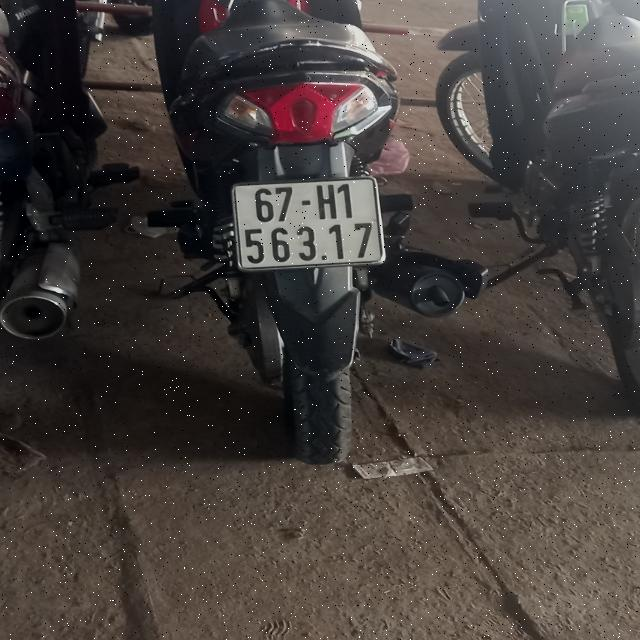1: (337, 182, 355, 220), (328, 224, 345, 261)
3: (296, 226, 316, 260)
5: (244, 228, 266, 264)
6: (270, 227, 291, 261), (255, 189, 274, 222)
7: (354, 222, 372, 259), (276, 187, 293, 222)
H: (315, 183, 338, 220)
